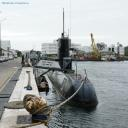submarine: (50, 9, 100, 108)
